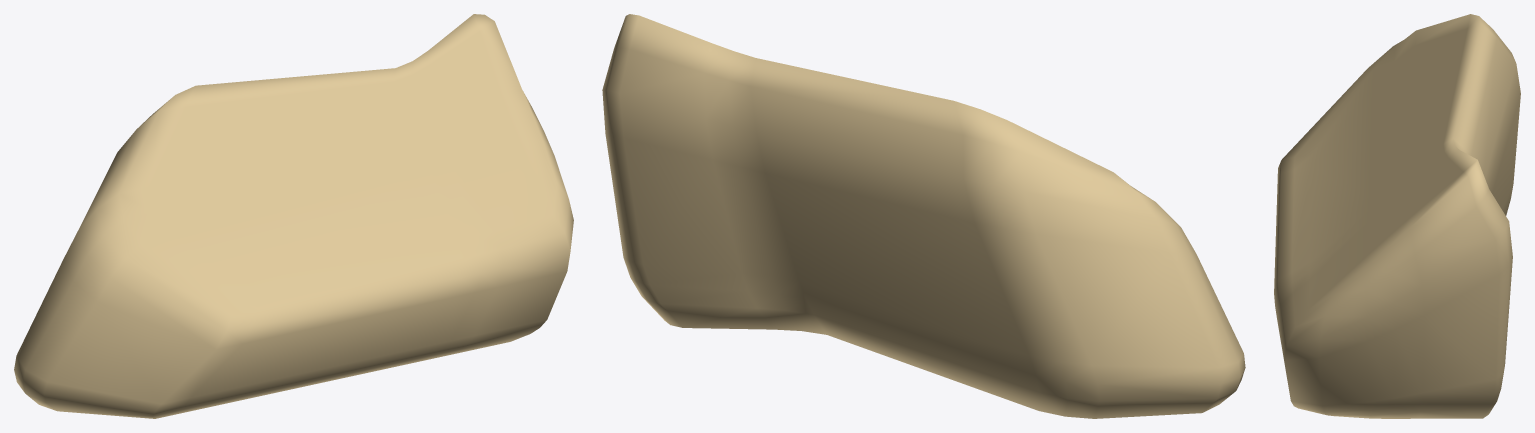
The model's file is Rock09_MESH.FBX.
The picture shows the model from 3 angles, left to right: view 1: azimuth 30°, elevation 25°; view 2: azimuth 150°, elevation 25°; view 3: azimuth 270°, elevation 25°; orthographic projection. The views are drawn at different scales.
Parts seen in each view (by area): view 1: Rock09_low; view 2: Rock09_low; view 3: Rock09_low.
Boxes of the visible parts, <box> form: Rock09_low: <box>14,14,573,418</box>; Rock09_low: <box>602,14,1245,418</box>; Rock09_low: <box>1274,14,1520,418</box>.
Bounding box in the file's own units: 174 × 82.85 × 68.28.
